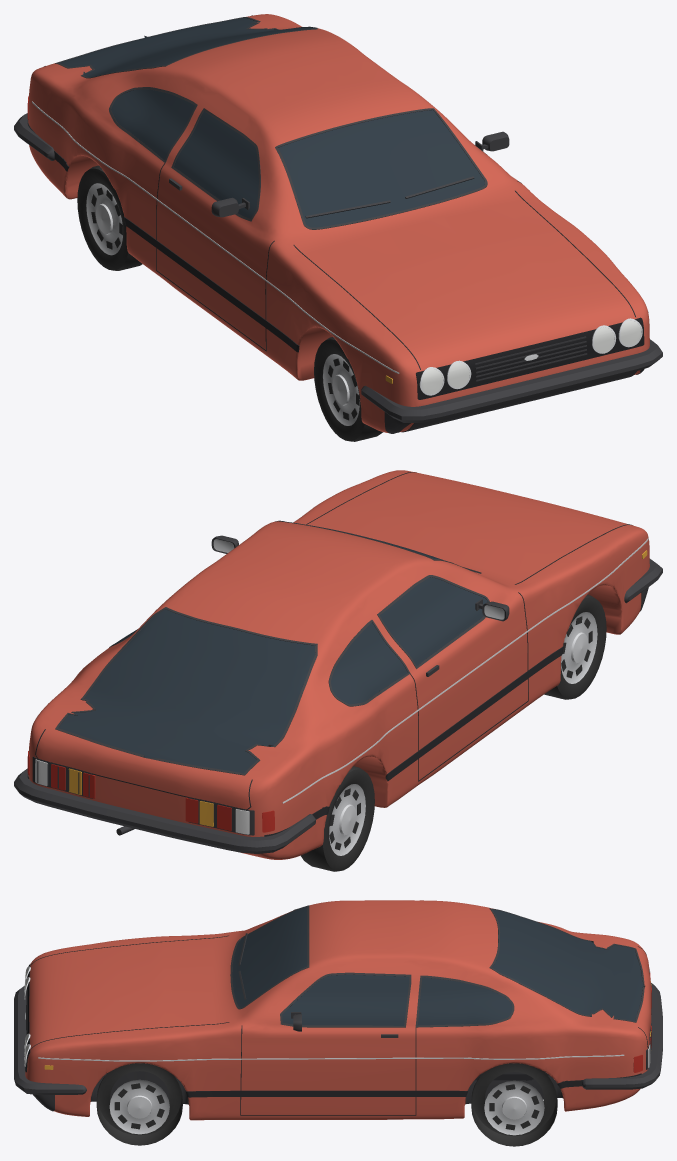
File: capri.glb
The picture shows the model from 3 angles, top to bottom: view 1: azimuth 30°, elevation 25°; view 2: azimuth 150°, elevation 25°; view 3: azimuth 270°, elevation 25°; orthographic projection. The views are drawn at different scales.
Visible parts, largest first — view 1: paint, glass, trim, wheel_rr, wheel_fr, headlights, mirrors; view 2: paint, glass, trim, wheel_rr, wheel_fr, taillights, mirrors, reverse_lights; view 3: paint, glass, trim, wheel_rl, wheel_fl.
Part boxes in pixels (box(x1,y1,x2,y2)): paint: box(28, 14, 649, 432); glass: box(59, 17, 484, 227); trim: box(14, 15, 662, 433); wheel_rr: box(77, 165, 142, 270); wheel_fr: box(314, 337, 382, 441); headlights: box(421, 320, 641, 394); mirrors: box(211, 131, 509, 217); paint: box(28, 470, 649, 859); glass: box(58, 523, 487, 773); trim: box(14, 472, 662, 853); wheel_rr: box(300, 766, 374, 871); wheel_fr: box(544, 594, 606, 699); taillights: box(27, 751, 274, 832); mirrors: box(211, 535, 509, 621); reverse_lights: box(35, 759, 249, 834); paint: box(25, 900, 651, 1120); glass: box(232, 906, 643, 1025); trim: box(14, 905, 662, 1115); wheel_rl: box(471, 1063, 557, 1146); wheel_fl: box(96, 1063, 182, 1145).
Bounding box in the file's own units: 1.86 × 1.32 × 4.44.
